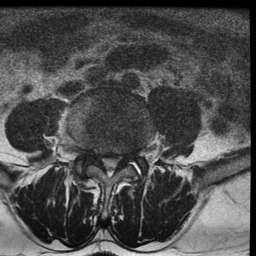CCS_normal: (107, 148, 113, 182)
LFS_severe_stenosis: (122, 143, 132, 164)
LLS_stenosis: (114, 151, 121, 172)
RFS_severe_stenosis: (90, 142, 100, 165)
RLS_severe_stenosis: (100, 149, 107, 174)
